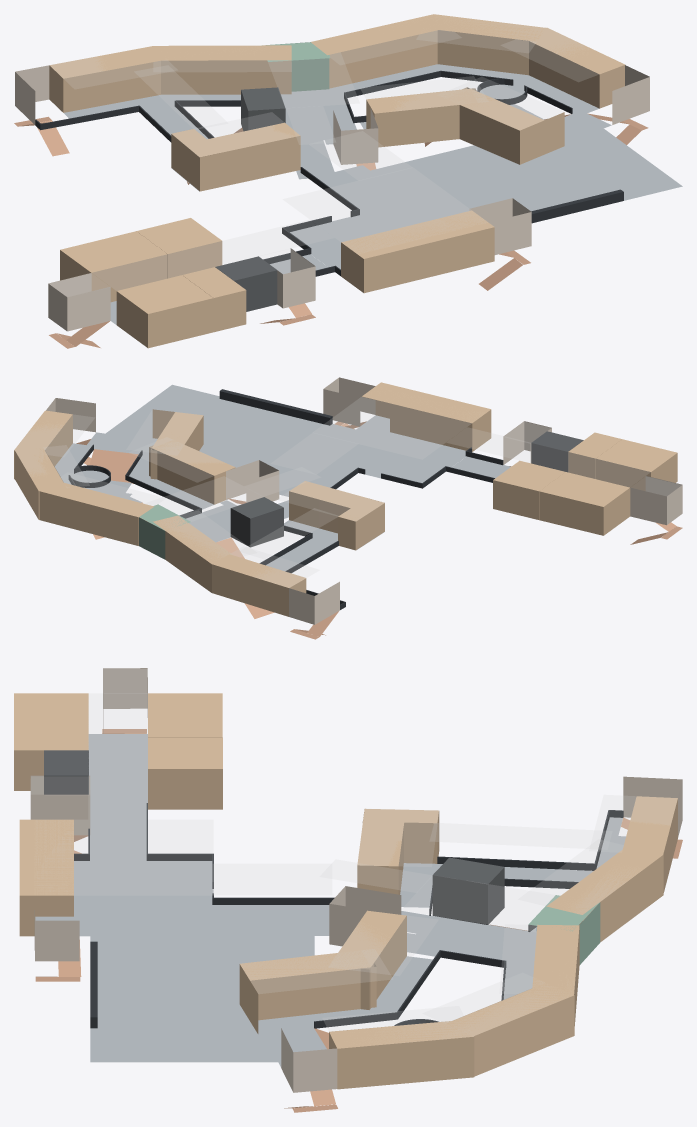
3 renders of one model, top to bottom at view 1: azimuth 30°, elevation 25°; view 2: azimuth 150°, elevation 25°; view 3: azimuth 270°, elevation 25°, orthographic. The views are drawn at different scales.
Visible parts, largest first — view 1: 平面, 立方體.147, 立方體.186, 立方體.096, 立方體.187, 立方體.047, 立方體.103, 丁棟4F, 立方體.121, 立方體.010, 立方體.181, 立方體.035 (+58 smaller); view 2: 平面, 立方體.147, 立方體.035, 立方體.186, 立方體.047, 立方體.187, 立方體.096, 立方體.020, 立方體.053, 立方體.181, 丁棟4F, 立方體.220 (+55 smaller); view 3: 平面, 立方體.186, 立方體.035, 立方體.187, 立方體.027, 立方體.131, 立方體.147, 立方體.053, 立方體.181, 立方體.135, 立方體.025, 立方體.018 (+51 smaller).
Part boxes in pixels (x1=…): 平面: x1=353, y1=117, x2=682, y2=222; 立方體.147: x1=341, y1=210, x2=494, y2=293; 立方體.186: x1=283, y1=168, x2=487, y2=252; 立方體.096: x1=116, y1=275, x2=213, y2=348; 立方體.187: x1=93, y1=220, x2=333, y2=290; 立方體.047: x1=60, y1=231, x2=167, y2=302; 立方體.103: x1=161, y1=60, x2=291, y2=94; 丁棟4F: x1=49, y1=61, x2=160, y2=112; 立方體.121: x1=329, y1=30, x2=448, y2=88; 立方體.010: x1=459, y1=105, x2=564, y2=164; 立方體.181: x1=269, y1=53, x2=359, y2=107; 立方體.035: x1=290, y1=202, x2=436, y2=269; 平面: x1=93, y1=384, x2=369, y2=490; 立方體.147: x1=361, y1=382, x2=491, y2=451; 立方體.035: x1=313, y1=415, x2=465, y2=482; 立方體.186: x1=313, y1=397, x2=470, y2=458; 立方體.047: x1=539, y1=472, x2=630, y2=535; 立方體.187: x1=447, y1=428, x2=649, y2=486; 立方體.096: x1=596, y1=439, x2=677, y2=491; 立方體.020: x1=39, y1=491, x2=138, y2=545; 立方體.053: x1=493, y1=460, x2=564, y2=519; 立方體.181: x1=146, y1=476, x2=262, y2=521; 丁棟4F: x1=212, y1=564, x2=306, y2=616; 立方體.220: x1=230, y1=497, x2=283, y2=547; 平面: x1=90, y1=926, x2=314, y2=1062; 立方體.186: x1=38, y1=820, x2=212, y2=894; 立方體.035: x1=35, y1=860, x2=213, y2=936; 立方體.187: x1=89, y1=694, x2=147, y2=818; 立方體.027: x1=88, y1=734, x2=147, y2=860; 立方體.131: x1=329, y1=1022, x2=474, y2=1089; 立方體.147: x1=19, y1=819, x2=73, y2=936; 立方體.053: x1=148, y1=737, x2=222, y2=809; 立方體.181: x1=402, y1=875, x2=554, y2=931; 立方體.135: x1=250, y1=963, x2=376, y2=1020; 立方體.025: x1=407, y1=915, x2=535, y2=972; 立方體.018: x1=474, y1=995, x2=574, y2=1076.
Bounding box in the file's own units: 60.81 × 8.08 × 44.75.
